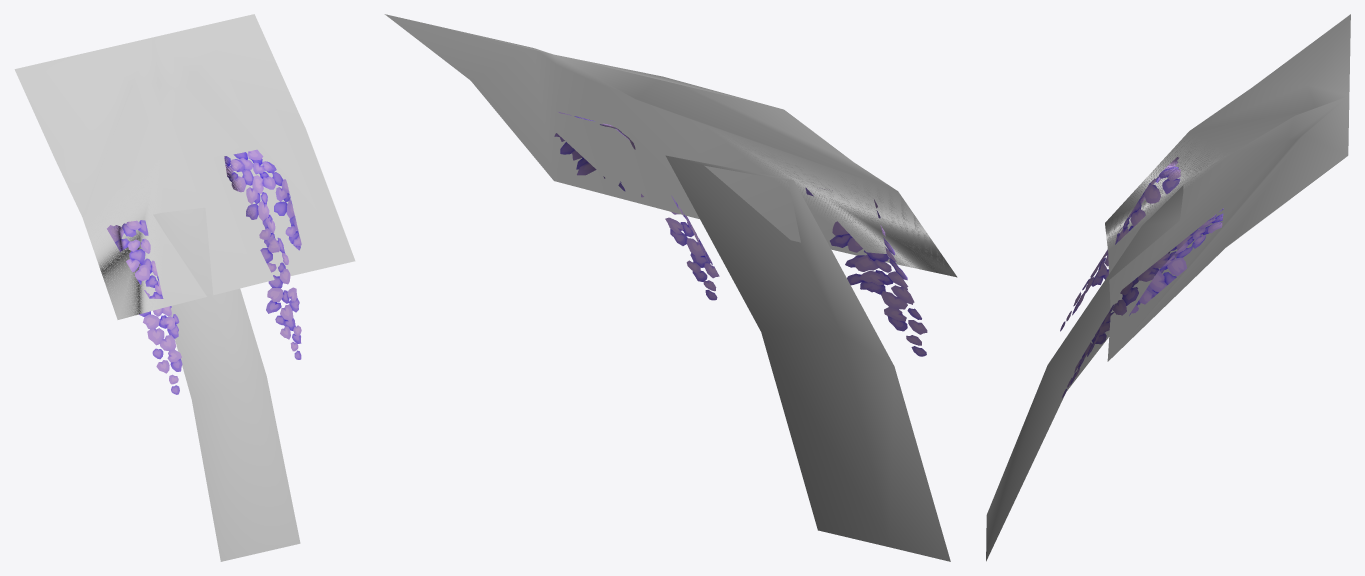
The model's file is SM_Env_Vines_Preset_Roof_Convex_04.fbx.
3 renders of one model, left to right at view 1: azimuth 30°, elevation 25°; view 2: azimuth 150°, elevation 25°; view 3: azimuth 270°, elevation 25°, orthographic. The views are drawn at different scales.
Parts seen in each view (by area): view 1: SM_Env_Vines_Preset_Roof_Convex_04; view 2: SM_Env_Vines_Preset_Roof_Convex_04; view 3: SM_Env_Vines_Preset_Roof_Convex_04.
Boxes of the visible parts, left/top/right/bottom form: SM_Env_Vines_Preset_Roof_Convex_04: left=14, top=14, right=355, bottom=561; SM_Env_Vines_Preset_Roof_Convex_04: left=384, top=14, right=957, bottom=561; SM_Env_Vines_Preset_Roof_Convex_04: left=986, top=14, right=1350, bottom=561.
Bounding box in the file's own units: 155 × 244 × 171.
